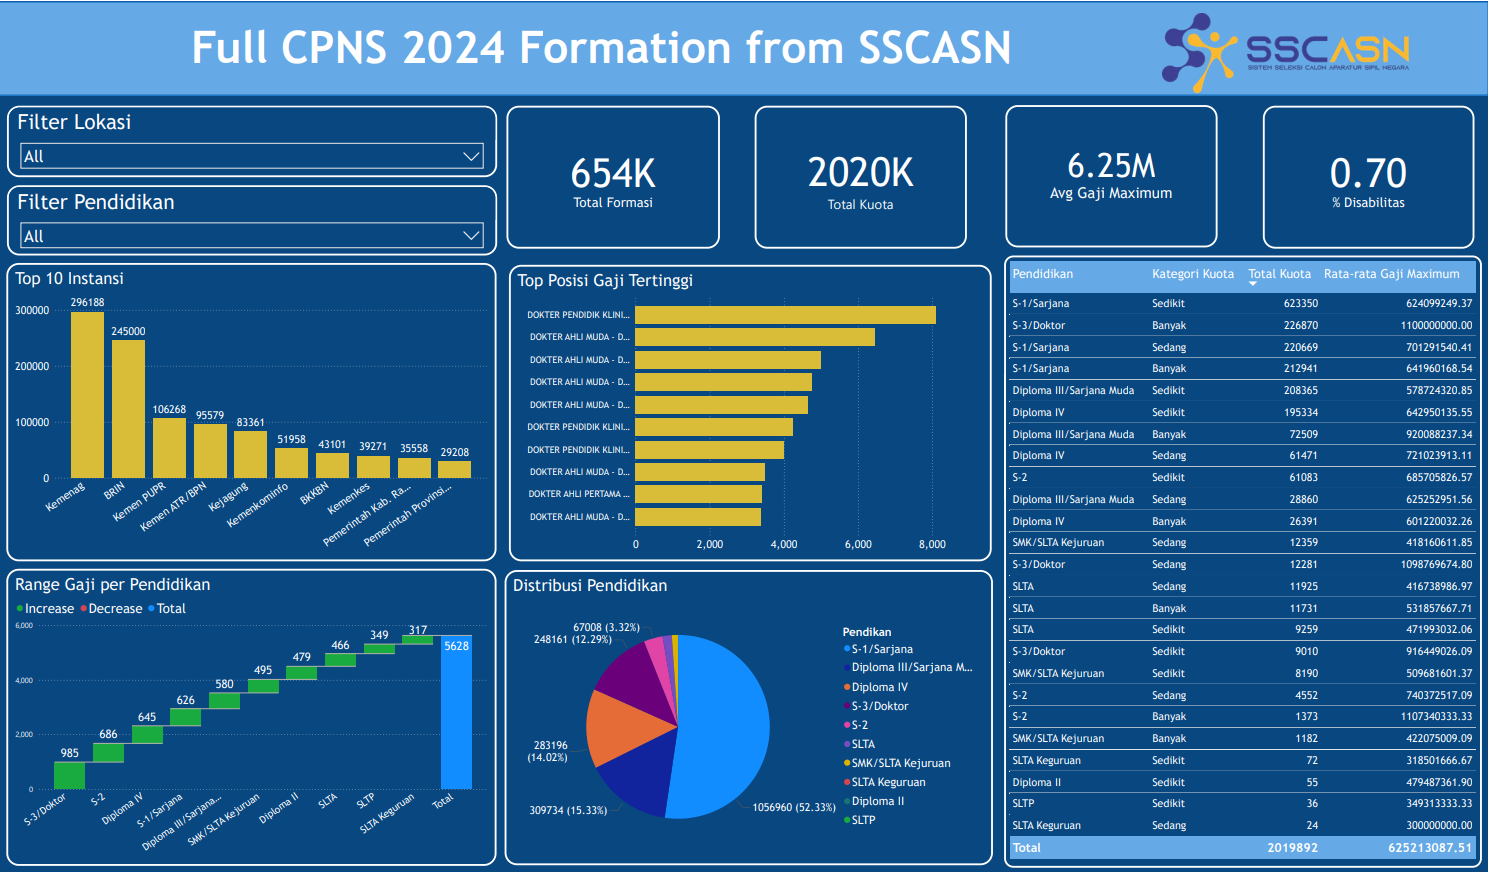

The dashboard page shown, as its layout file describes it:
{"tool":"powerbi","page":{"name":"Page 1","canvas":[2400,1400],"ordinal":0},"visuals":[{"type":"card","fields":{"Values":["vw_dashboard_simple_202511171455.Total Formasi"]},"box":[818.3,166.7,343.3,230],"z":0},{"type":"card","fields":{"Values":["vw_dashboard_simple_202511171455.Avg Gaji Maximum"]},"box":[1622.1,165.7,344.5,231.1],"z":1000},{"type":"pieChart","title":"Distribusi Pendidikan","fields":{"Category":["vw_dashboard_simple_202511171455.pendidikan"],"Y":["Sum(vw_dashboard_simple_202511171455.kuota)"]},"box":[815.4,913.5,787.1,475.3],"z":2000},{"type":"columnChart","title":"Top 10 Instansi","fields":{"Y":["Sum(vw_dashboard_simple_202511171455.kuota)"],"Category":["vw_dashboard_simple_202511171455.instansi_singkat"]},"box":[11.7,420,790,480],"z":3000},{"type":"card","fields":{"Values":["vw_dashboard_simple_202511171455.% Disabilitas"]},"box":[2036.7,166.7,341.7,230],"z":4000},{"type":"clusteredBarChart","title":"Top Posisi Gaji Tertinggi","fields":{"Category":["vw_dashboard_simple_202511171455.jabatan"],"Y":["vw_dashboard_simple_202511171455.Gaji JT"]},"box":[822,423,778.3,477.5],"z":5000},{"type":"waterfallChart","title":"Range Gaji per Pendidikan","fields":{"Category":["vw_dashboard_simple_202511171455.pendidikan"],"Y":["vw_dashboard_simple_202511171455.Gaji JT"]},"box":[11.7,911.7,790,478.3],"z":6000},{"type":"tableEx","fields":{"Values":["vw_dashboard_simple_202511171455.pendidikan","vw_dashboard_simple_202511171455.kategori_kuota","Sum(vw_dashboard_simple_202511171455.kuota)","Avg(vw_dashboard_simple_202511171455.gaji_maximum)"]},"box":[1620,408.3,770,985],"z":7000},{"type":"shape","box":[0,0,2400,150],"z":8000},{"type":"image","box":[1767.5,12.5,610,137.5],"z":9000},{"type":"textbox","box":[305,25,1365,115],"z":10000},{"type":"card","fields":{"Values":["vw_dashboard_simple_202511171455.Total Kuota"]},"box":[1218.3,166.7,341.7,230],"z":11000},{"type":"slicer","title":"Filter Lokasi","fields":{"Values":["vw_dashboard_simple_202511171455.lokasi"]},"box":[13.3,166.7,790,115],"z":12000},{"type":"slicer","title":"Filter Pendidikan","fields":{"Values":["vw_dashboard_simple_202511171455.pendidikan"]},"box":[13.3,295,790,113.3],"z":13000}]}

Visuals, with their boxes in screenshot pixels (x1, y1, x2, y2), scaled from the page's 2400x1400 canvas onto the 1488x873 screenshot:
card - vw_dashboard_simple_202511171455.Total Formasi: (left=507, top=104, right=720, bottom=247)
card - vw_dashboard_simple_202511171455.Avg Gaji Maximum: (left=1006, top=103, right=1219, bottom=247)
"Distribusi Pendidikan" pieChart: (left=506, top=570, right=994, bottom=866)
"Top 10 Instansi" columnChart: (left=7, top=262, right=497, bottom=561)
card - vw_dashboard_simple_202511171455.% Disabilitas: (left=1263, top=104, right=1475, bottom=247)
"Top Posisi Gaji Tertinggi" clusteredBarChart: (left=510, top=264, right=992, bottom=562)
"Range Gaji per Pendidikan" waterfallChart: (left=7, top=569, right=497, bottom=867)
tableEx - vw_dashboard_simple_202511171455.pendidikan x vw_dashboard_simple_202511171455.kategori_kuota: (left=1004, top=255, right=1482, bottom=869)
shape: (left=0, top=0, right=1487, bottom=94)
image: (left=1096, top=8, right=1474, bottom=94)
textbox: (left=189, top=16, right=1035, bottom=87)
card - vw_dashboard_simple_202511171455.Total Kuota: (left=755, top=104, right=967, bottom=247)
"Filter Lokasi" slicer: (left=8, top=104, right=498, bottom=176)
"Filter Pendidikan" slicer: (left=8, top=184, right=498, bottom=255)
